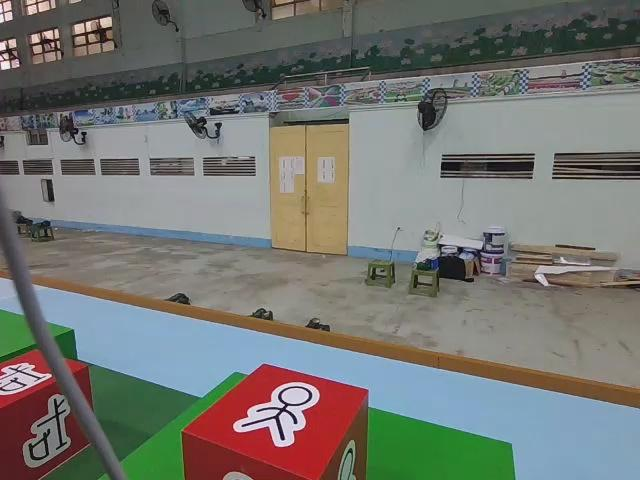R2 Real: (179, 360, 370, 480), (0, 342, 97, 480)
